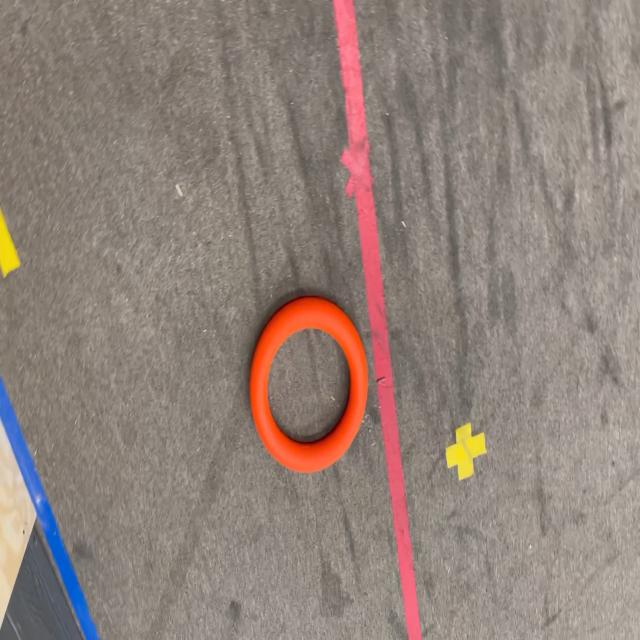note: (250, 297, 368, 473)
